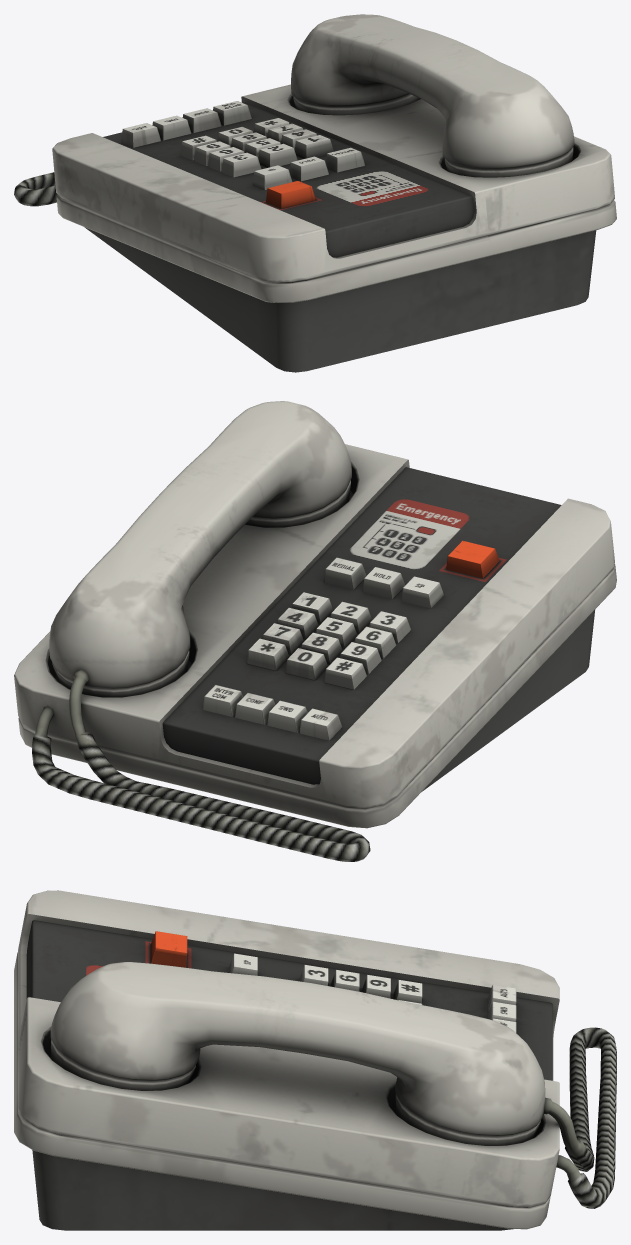
File: telefonfbx.fbx
3 views of the same model, one above another, from view 1: azimuth 30°, elevation 25°; view 2: azimuth 150°, elevation 25°; view 3: azimuth 270°, elevation 25° (orthographic). The views are drawn at different scales.
Visible parts, largest first — view 1: phone_a; view 2: phone_a; view 3: phone_a.
Boxes of the visible parts, x1,y1,x2,y2 form: phone_a: (14, 14, 616, 372); phone_a: (14, 401, 616, 861); phone_a: (14, 890, 616, 1230).
Bounding box in the file's own units: 1228 × 653 × 1568.
